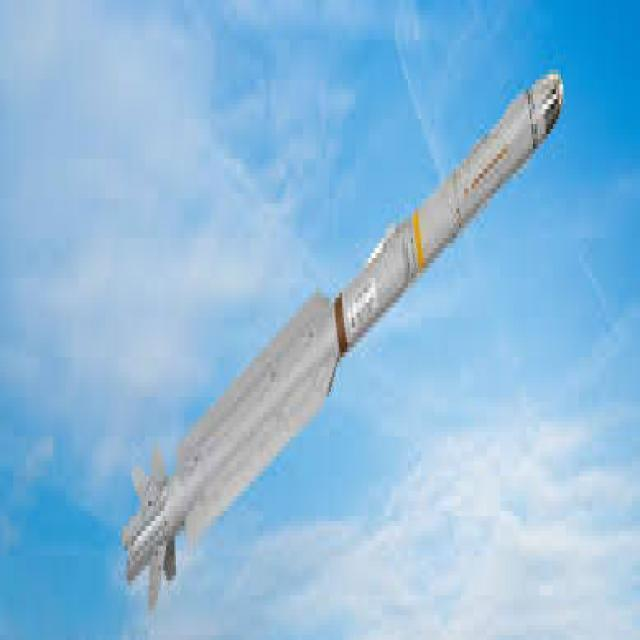missile: (122, 72, 568, 610)
